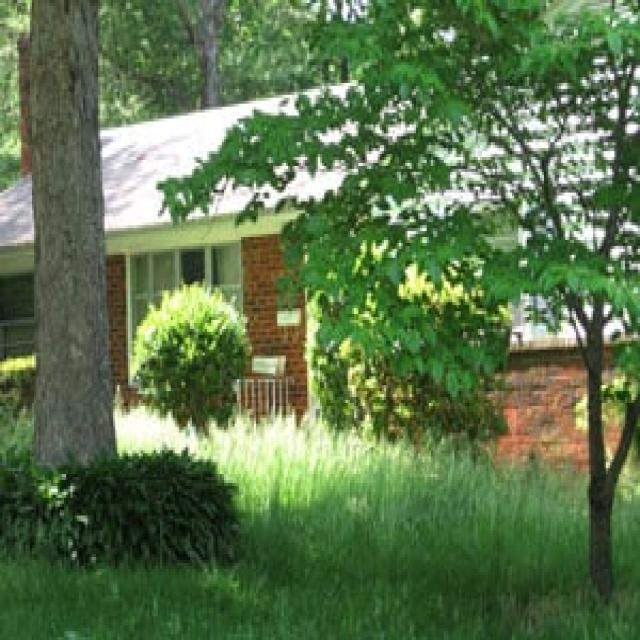House: (0, 30, 640, 491)
